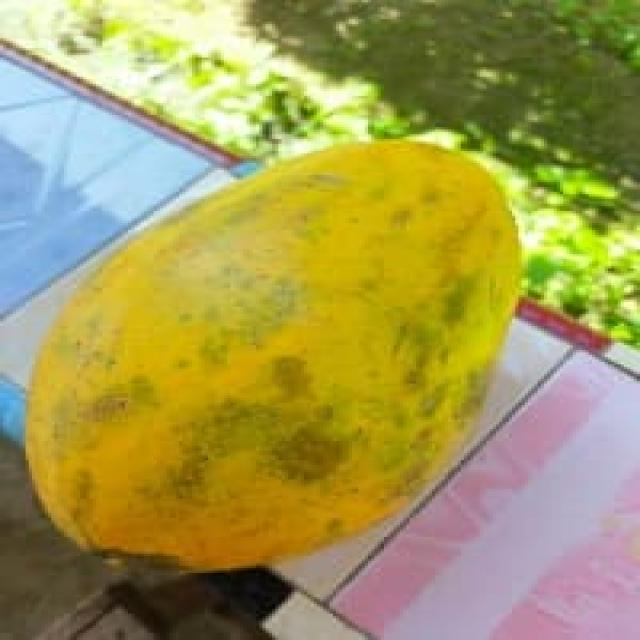Pepaya: (22, 137, 528, 573)
